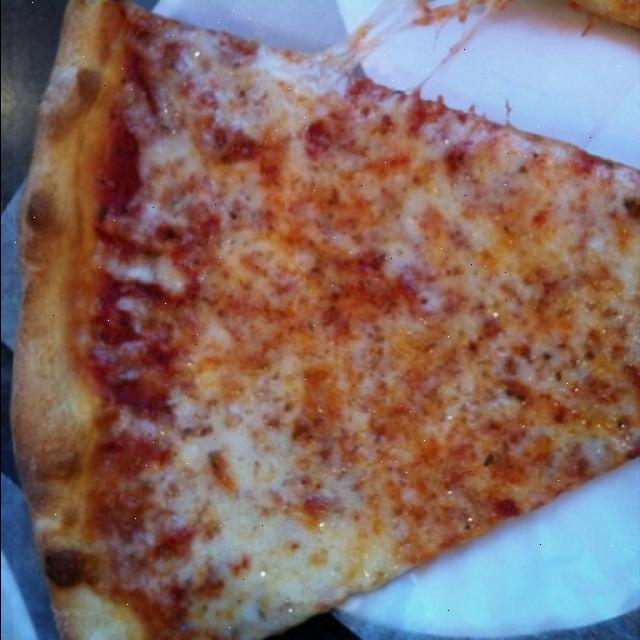pizza: (13, 0, 639, 640)
